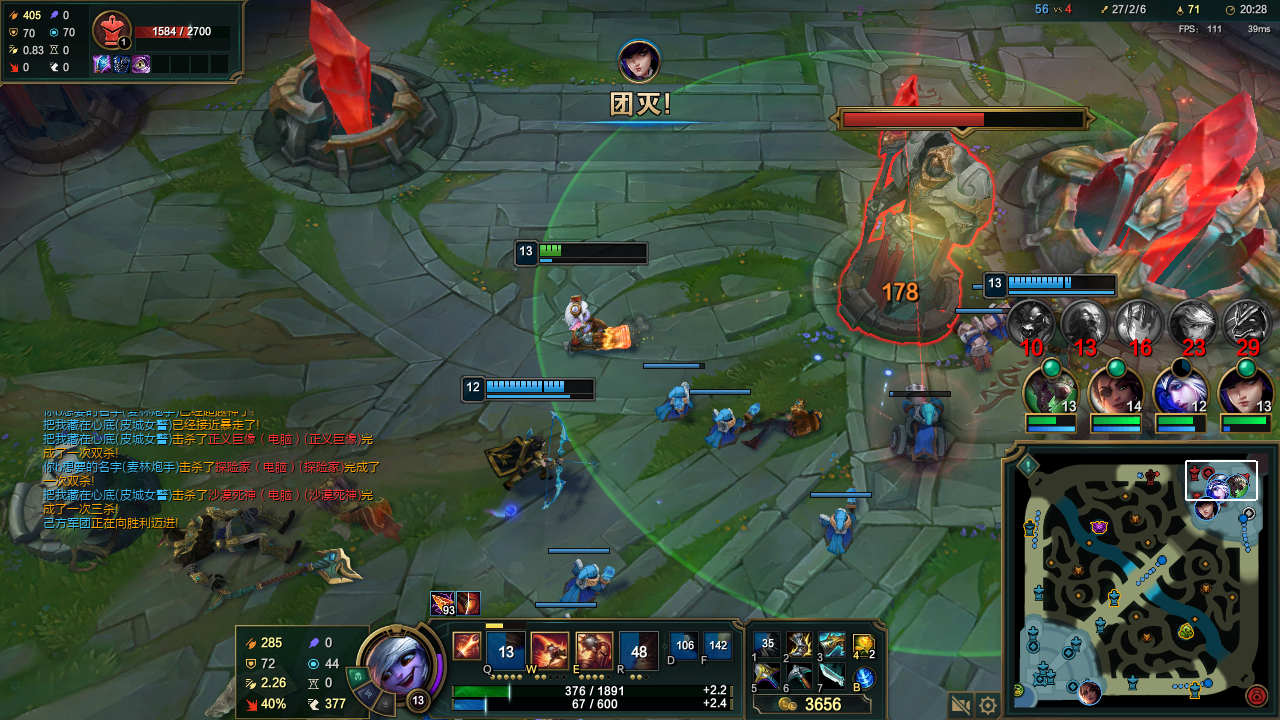DFDSJ: (1054, 122, 1265, 299)
DFFYT: (834, 138, 990, 346)
WFXB: (879, 386, 961, 470), (807, 487, 875, 555), (701, 401, 756, 454), (561, 558, 622, 605), (647, 372, 697, 422), (972, 298, 1017, 339), (952, 323, 993, 362)
